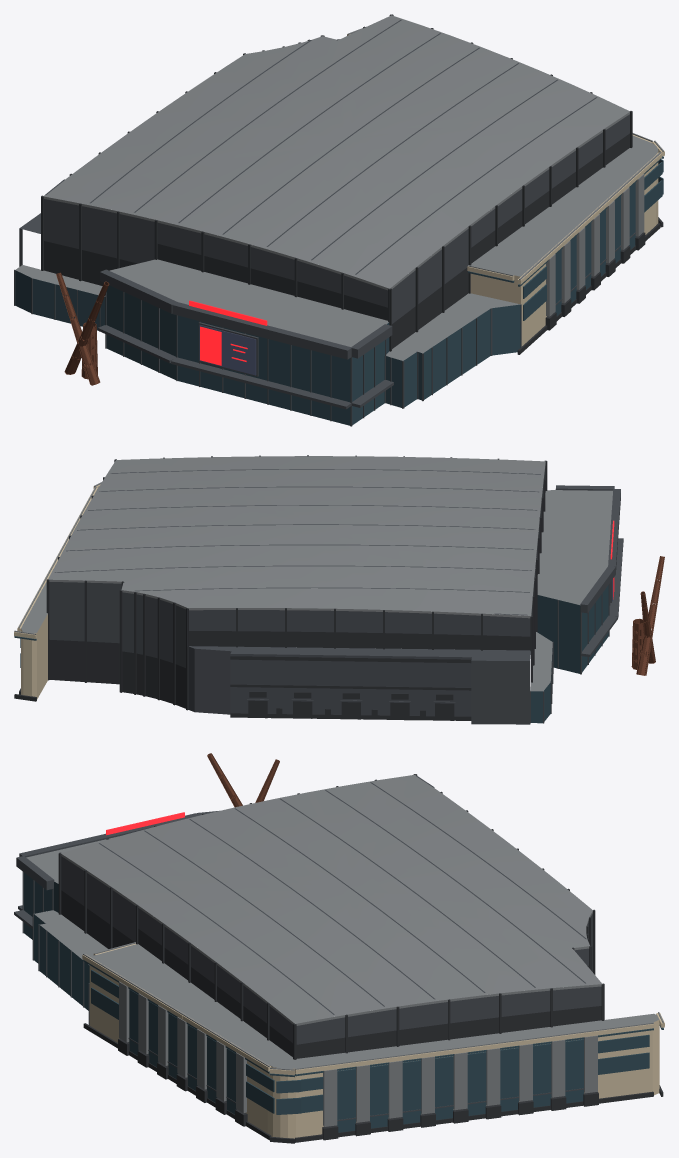
File: scotiabank-arena-far.glb
The picture shows the model from 3 angles, top to bottom: view 1: azimuth 30°, elevation 25°; view 2: azimuth 150°, elevation 25°; view 3: azimuth 270°, elevation 25°; orthographic projection. The views are drawn at different scales.
Parts seen in each view (by area): view 1: scotiabank-arena-0-roof, scotiabank-arena-0-louvre, scotiabank-arena-0-glass, scotiabank-arena-0-cladding, scotiabank-arena-0-limestone, scotiabank-arena-0-corten, scotiabank-arena-0-glow, scotiabank-arena-0-sign; view 2: scotiabank-arena-0-roof, scotiabank-arena-0-louvre, scotiabank-arena-0-cladding, scotiabank-arena-0-glass, scotiabank-arena-0-limestone, scotiabank-arena-0-corten; view 3: scotiabank-arena-0-roof, scotiabank-arena-0-glass, scotiabank-arena-0-louvre, scotiabank-arena-0-cladding, scotiabank-arena-0-limestone, scotiabank-arena-0-corten.
Boxes of the visible parts, x1,y1,x2,y2 form: scotiabank-arena-0-roof: (15, 15, 663, 360); scotiabank-arena-0-louvre: (14, 19, 635, 426); scotiabank-arena-0-glass: (15, 156, 663, 425); scotiabank-arena-0-cladding: (41, 14, 663, 354); scotiabank-arena-0-limestone: (347, 34, 664, 346); scotiabank-arena-0-corten: (56, 272, 109, 385); scotiabank-arena-0-glow: (199, 325, 256, 375); scotiabank-arena-0-sign: (189, 300, 267, 365); scotiabank-arena-0-roof: (14, 456, 612, 691); scotiabank-arena-0-louvre: (49, 465, 623, 724); scotiabank-arena-0-cladding: (14, 455, 547, 720); scotiabank-arena-0-glass: (14, 585, 608, 723); scotiabank-arena-0-limestone: (14, 484, 100, 699); scotiabank-arena-0-corten: (631, 556, 664, 675); scotiabank-arena-0-roof: (26, 774, 663, 1126); scotiabank-arena-0-glass: (24, 872, 663, 1132); scotiabank-arena-0-louvre: (14, 775, 601, 1121); scotiabank-arena-0-cladding: (58, 774, 663, 1143); scotiabank-arena-0-limestone: (82, 943, 664, 1138); scotiabank-arena-0-corten: (207, 753, 279, 807).
Bounding box in the file's own units: 161 × 31.1 × 153.
